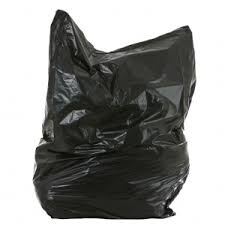Trash: (20, 9, 197, 222)
